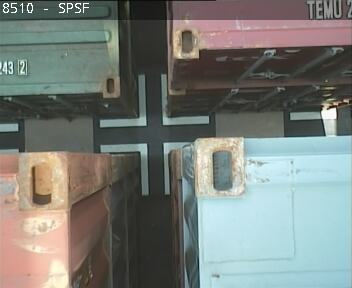groundmarker_1: (100, 74, 208, 127), (102, 141, 190, 196)
